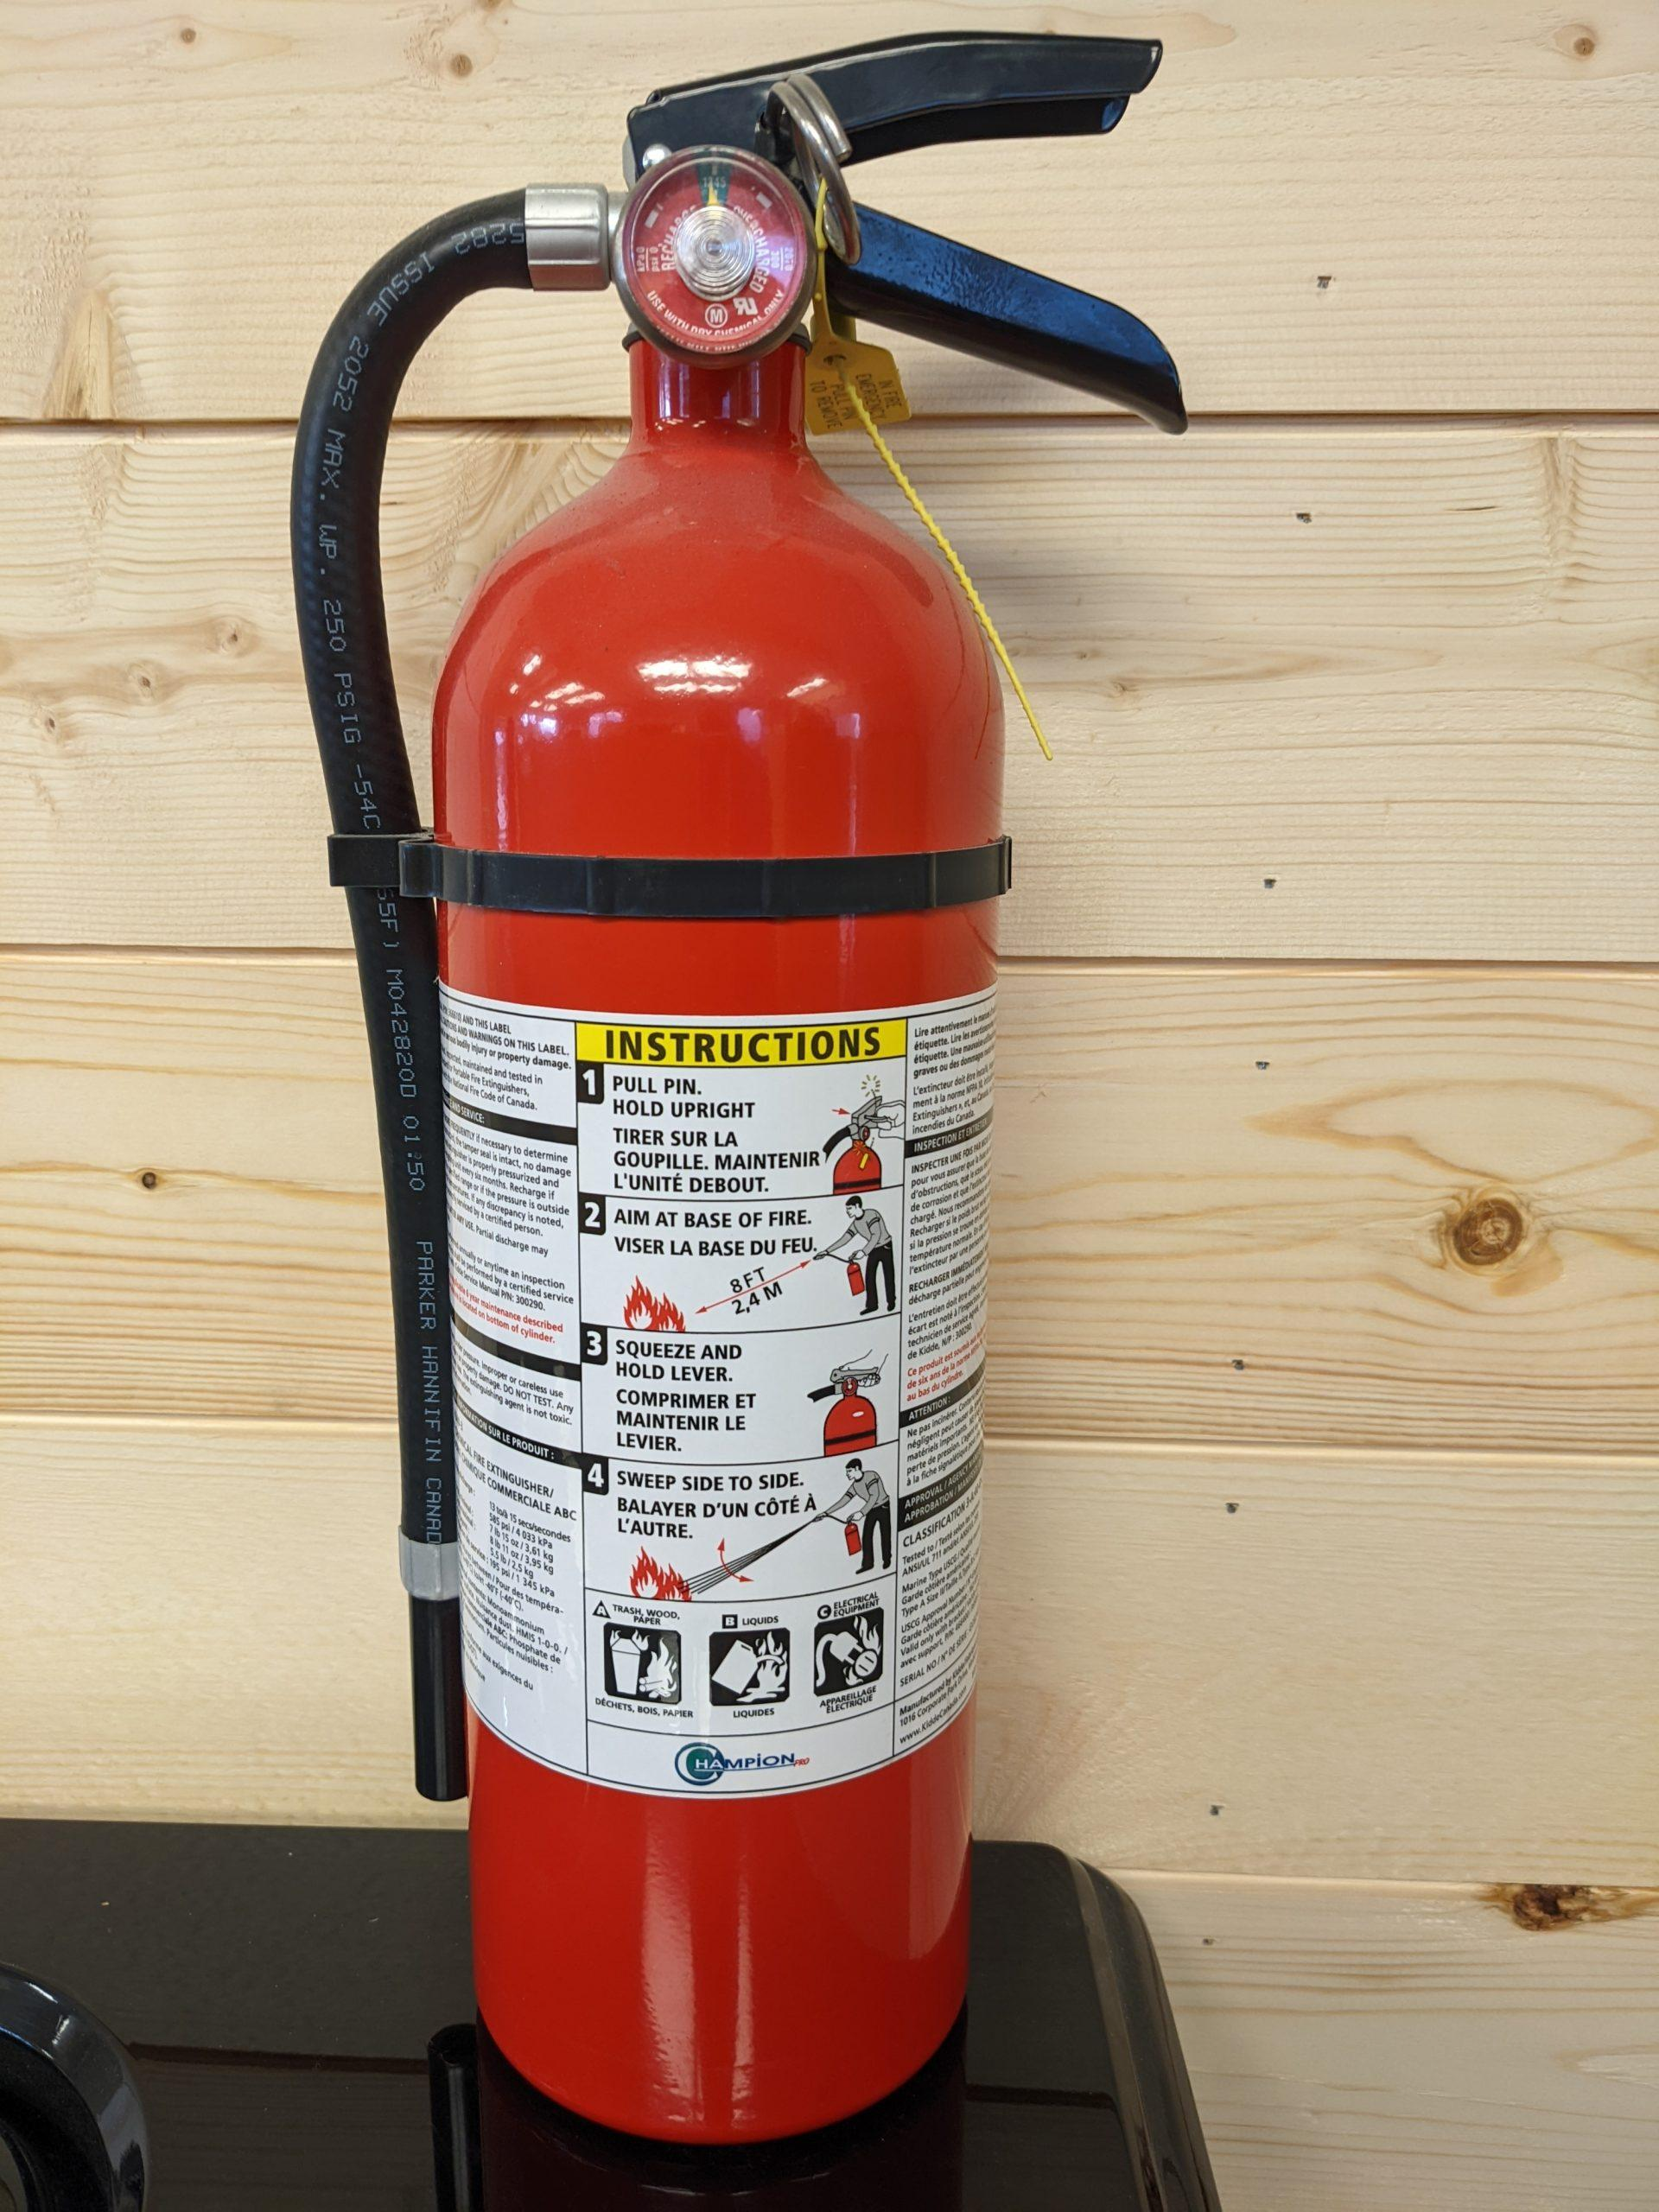floor-kept: (138, 0, 1466, 2189)
